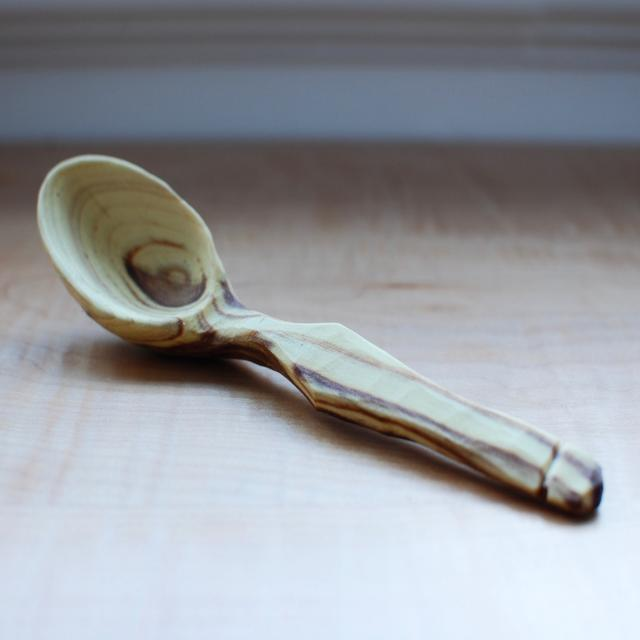spoon: (30, 132, 612, 524)
